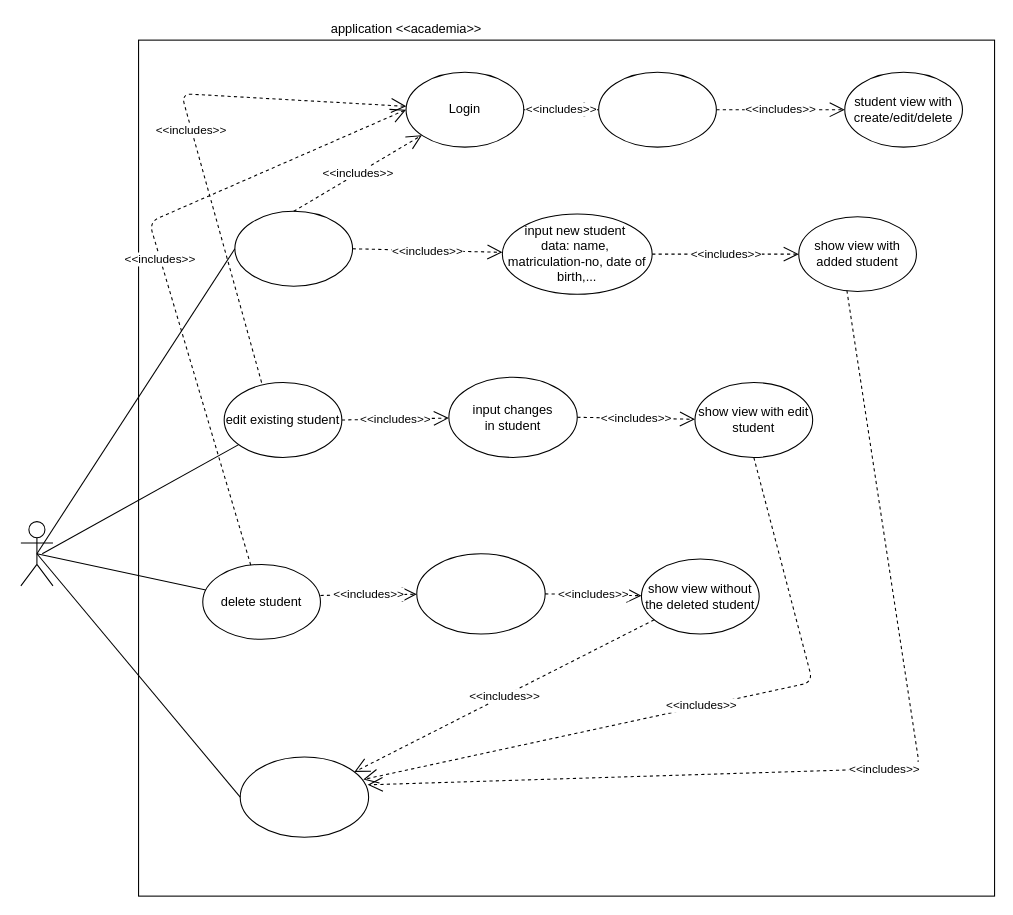
The diagram is 1013 pixels wide and 915 high, and some of its shapes have lost their labels. The shapes that lost their labels are listed below. From the top down, each one's box as (x1, y1, x2, y2) in pixels, then its label:
(598, 71, 716, 147): authenication as admin
(234, 210, 353, 286): create new student
(20, 521, 53, 586): Admin
(416, 553, 545, 634): select student to delete
(239, 756, 369, 837): see student changes in view
